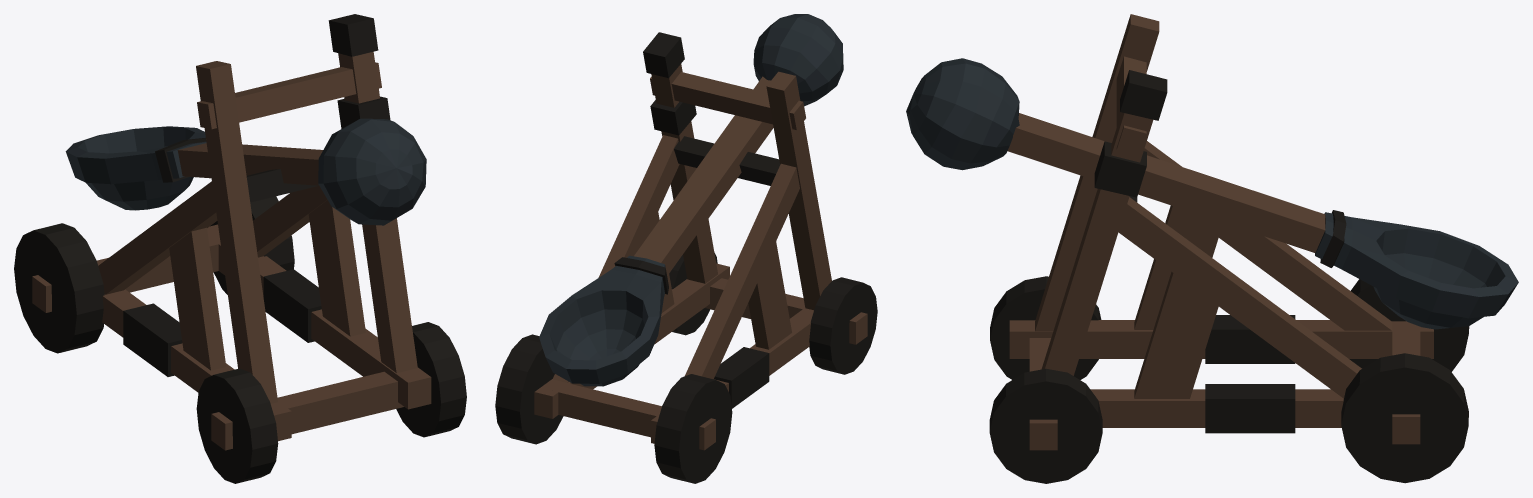
File: Catapult.fbx
The picture shows the model from 3 angles, left to right: view 1: azimuth 30°, elevation 25°; view 2: azimuth 150°, elevation 25°; view 3: azimuth 270°, elevation 25°; orthographic projection. The views are drawn at different scales.
Parts seen in each view (by area): view 1: Catapult; view 2: Catapult; view 3: Catapult.
Part boxes in pixels (left/top/right/bottom): Catapult: left=14, top=14, right=466, bottom=483; Catapult: left=495, top=14, right=877, bottom=483; Catapult: left=906, top=14, right=1518, bottom=483.
Bounding box in the file's own units: 1.56 × 2.5 × 3.56.
